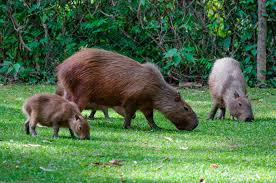capivara: (56, 48, 199, 132), (207, 57, 254, 124), (24, 93, 90, 139)
